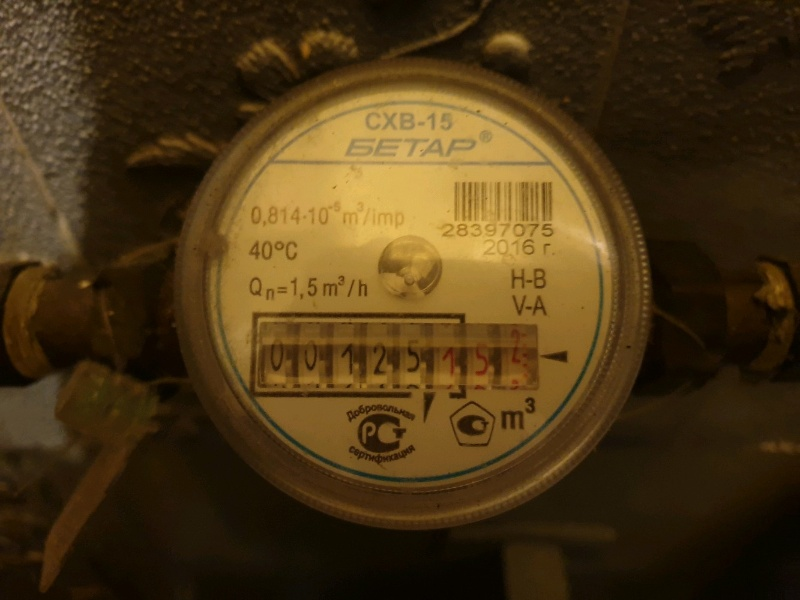meter: (261, 310, 548, 391)
